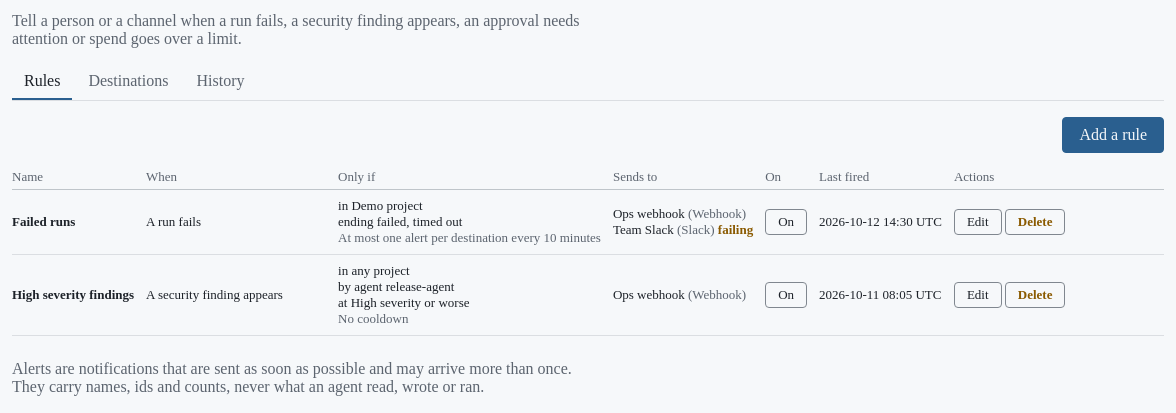
Test: the Alerts page: tabs and the rules table › the enabled switch mutes a rule through PATCH
The width and height of the screenshot is (1176, 413).
Click the switch named "Failed runs is on" at [786, 222], box [765,209,807,235]
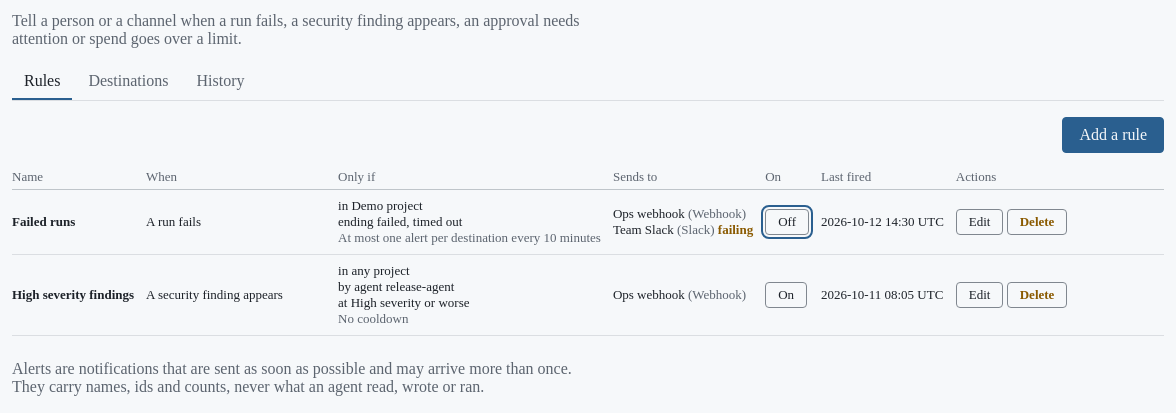
Check: the switch named "Failed runs is off" is shown, box [765,209,809,235]
